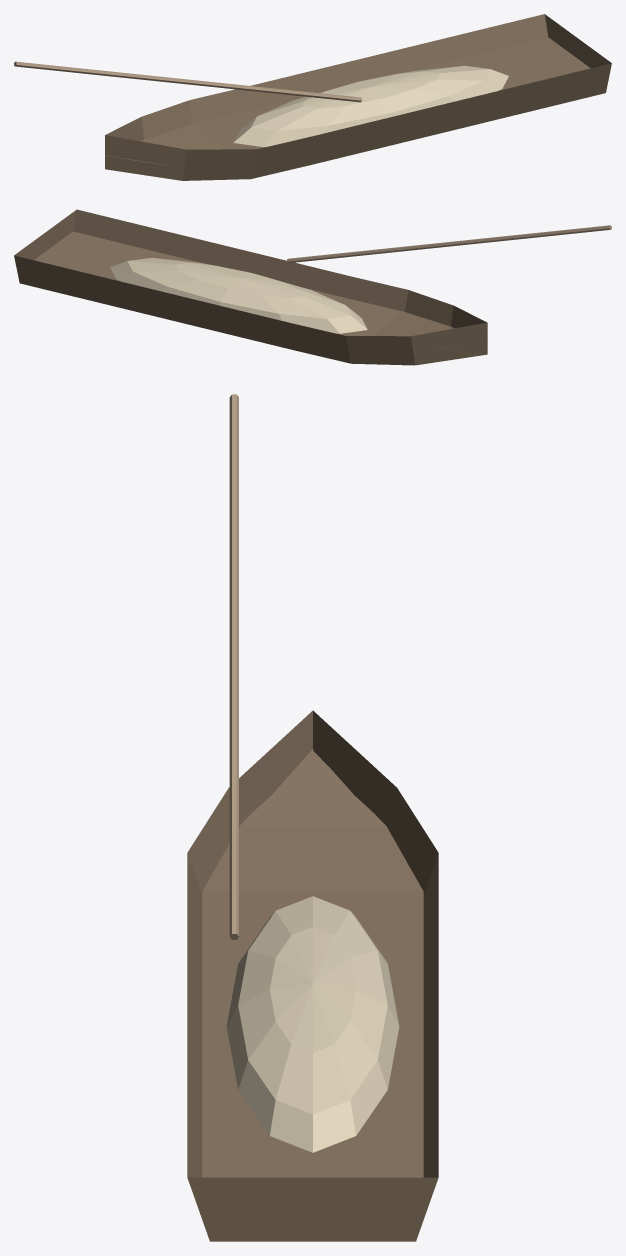
File: barchetto.glb
3 views of the same model, one above another, from view 1: azimuth 30°, elevation 25°; view 2: azimuth 150°, elevation 25°; view 3: azimuth 270°, elevation 25° (orthographic). The views are drawn at different scales.
Parts seen in each view (by area): view 1: barchetto, barchetto_sand, barchetto_pole; view 2: barchetto, barchetto_sand, barchetto_pole; view 3: barchetto, barchetto_sand, barchetto_pole.
Boxes of the visible parts, bbox=[...] form: barchetto: bbox=[105, 14, 611, 180]; barchetto_sand: bbox=[233, 65, 508, 146]; barchetto_pole: bbox=[14, 61, 361, 102]; barchetto: bbox=[14, 209, 487, 365]; barchetto_sand: bbox=[110, 258, 367, 333]; barchetto_pole: bbox=[287, 225, 611, 263]; barchetto: bbox=[187, 710, 438, 1241]; barchetto_sand: bbox=[226, 896, 399, 1152]; barchetto_pole: bbox=[229, 394, 238, 939].
Size of the model in its own units: 8.03 by 2.33 by 1.6.
